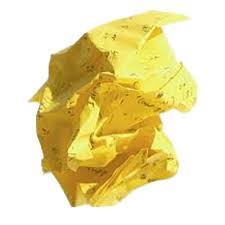crumpled paper: (31, 10, 204, 209)
